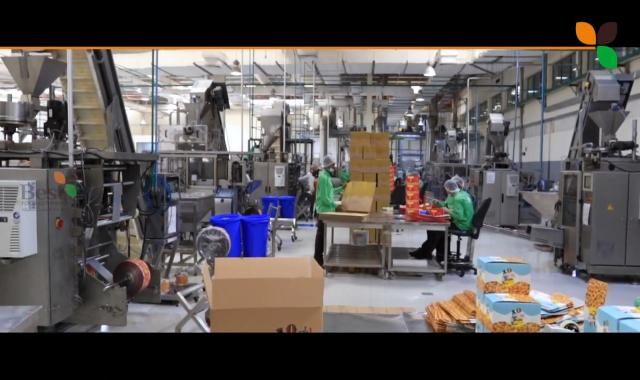hairnet: (445, 180, 459, 196), (324, 154, 335, 172)
